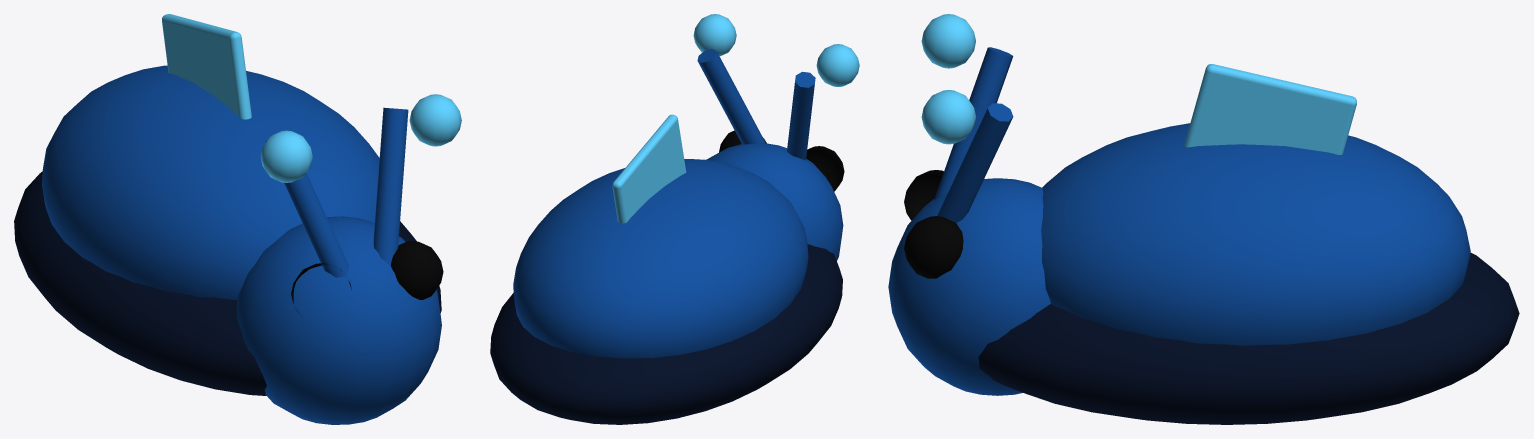
Rendered from gotita.obj.
The picture shows the model from 3 angles, left to right: view 1: azimuth 30°, elevation 25°; view 2: azimuth 150°, elevation 25°; view 3: azimuth 270°, elevation 25°; orthographic projection. The views are drawn at different scales.
Size of the model in its own units: 0.4 by 0.378 by 0.647.
